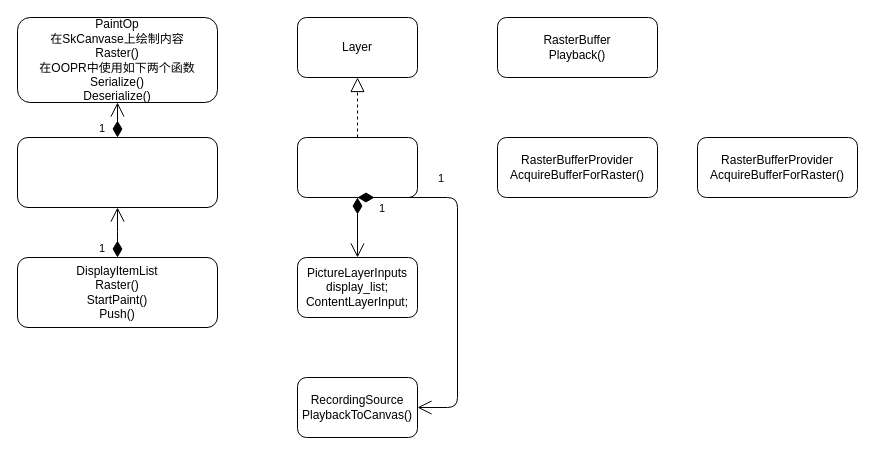
Image size: 875x455. Some labels were removed from this diagram. The shapes that lost their labels are listed below. From the top down, each one's centre as x and y in pixels, then its label:
At point 117,172: "PaintOpBuffer 保存着一组PaintOp，在Raster阶段会根据PaintOp，在SkCanvas上绘制 Playback() Push()".
At point 357,167: "PictureLayer Update() PushPropertiesTo()".
